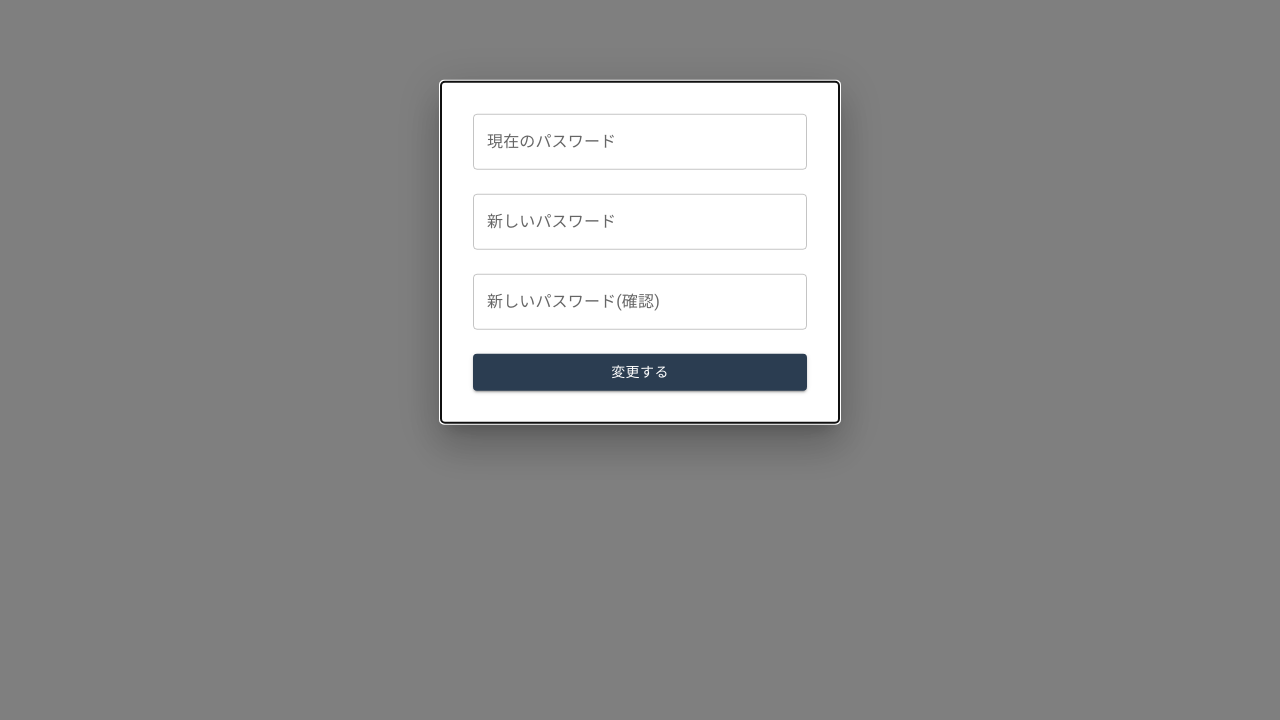
Scenario: 失敗する場合 › 新しいパスワードが6文字未満の場合、エラーメッセージが表示される
Type "123456" into the password field labelled "現在のパスワード" at (640, 142), box left=473, top=114, right=807, bottom=170
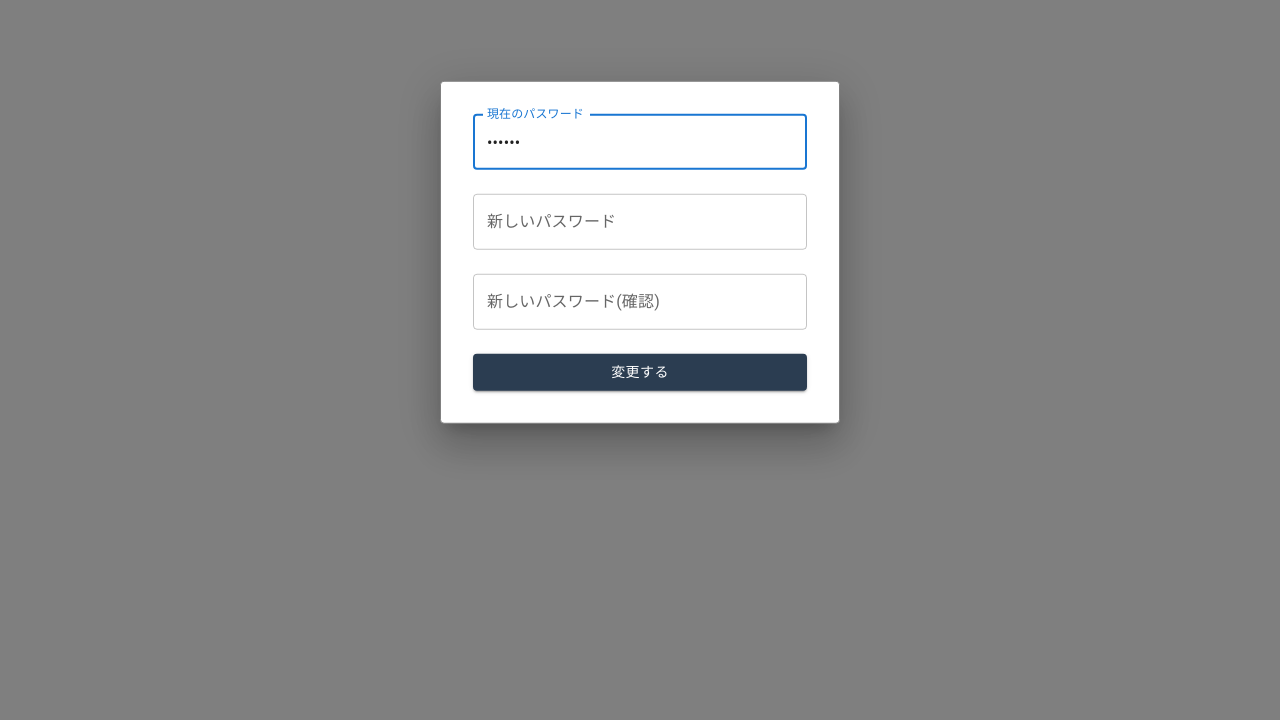
Type "23456" into the password field labelled "新しいパスワード" at (640, 222), box left=473, top=194, right=807, bottom=250
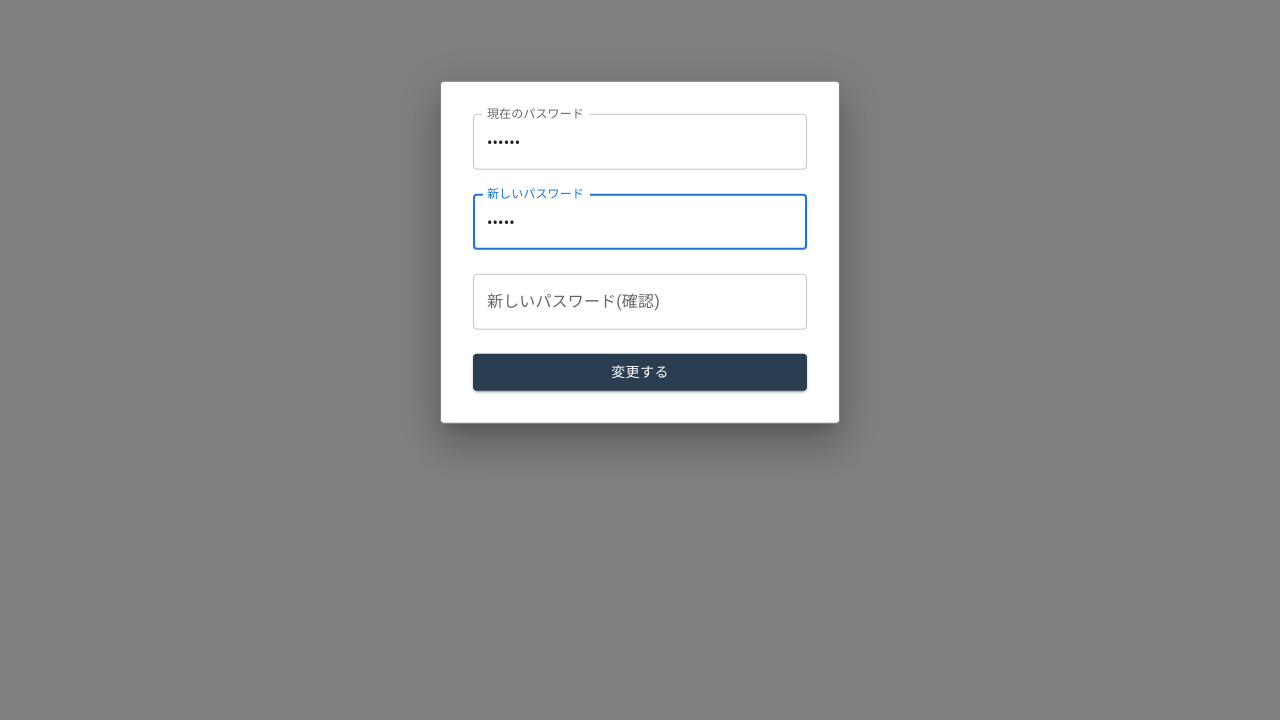
Type "234567" into the password field labelled "新しいパスワード(確認)" at (640, 302), box left=473, top=274, right=807, bottom=330
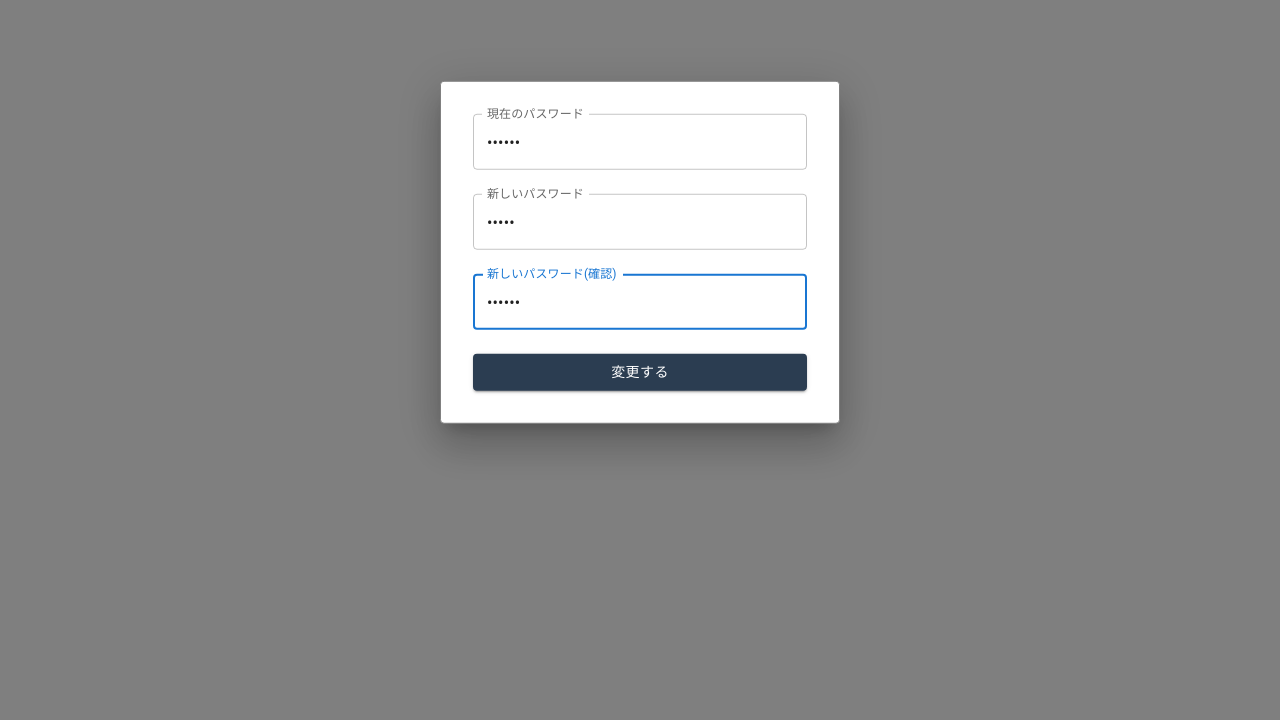
Click the button "変更する" at (640, 372), box left=473, top=354, right=807, bottom=390
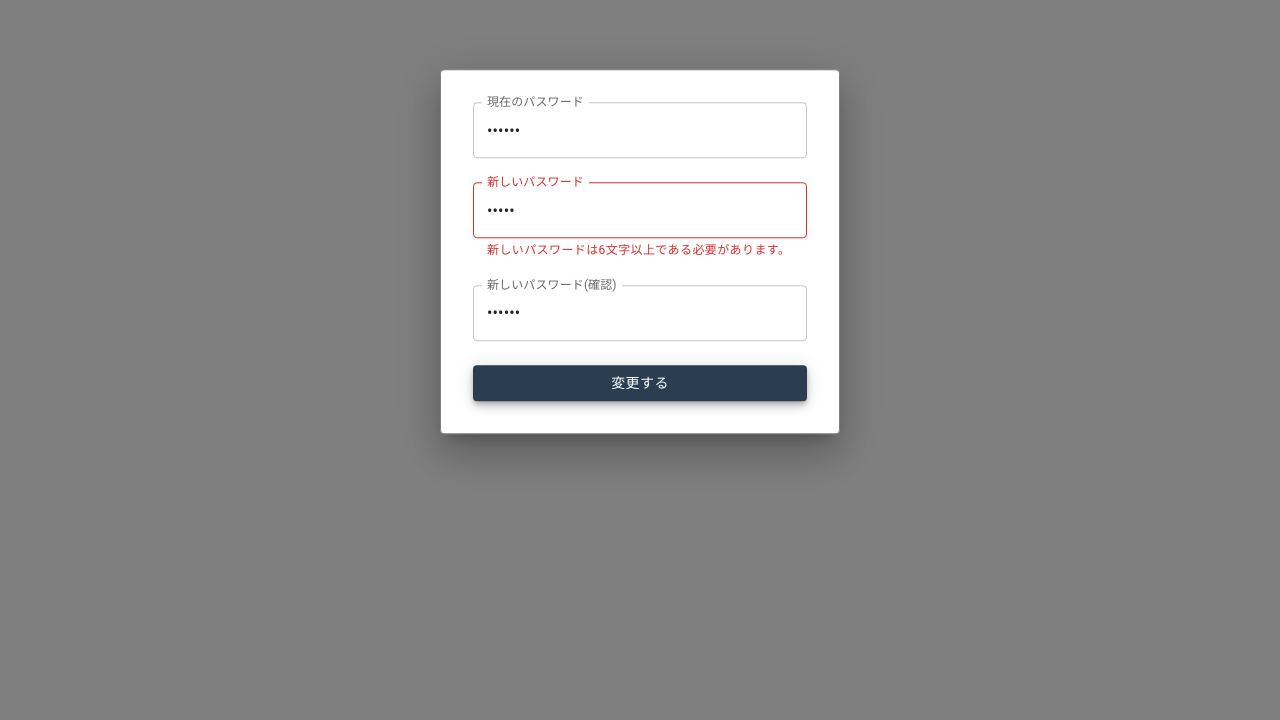
expect the text "新しいパスワードは6文字以上である必要があります。" is shown: met, box left=487, top=241, right=793, bottom=261
